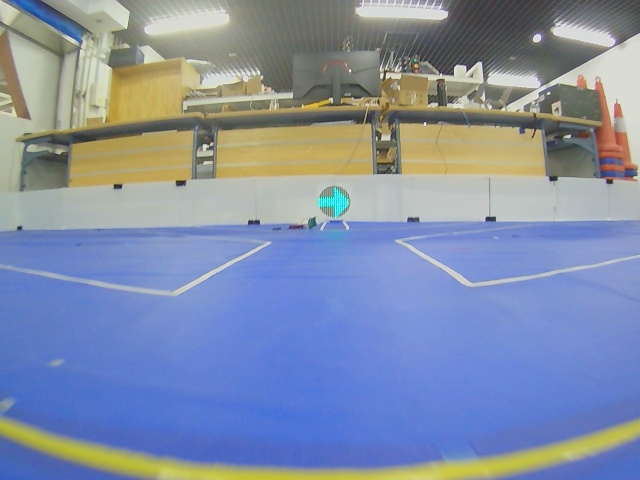right_green: (318, 186, 351, 218)
